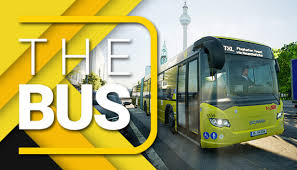bus: (142, 36, 286, 148)
